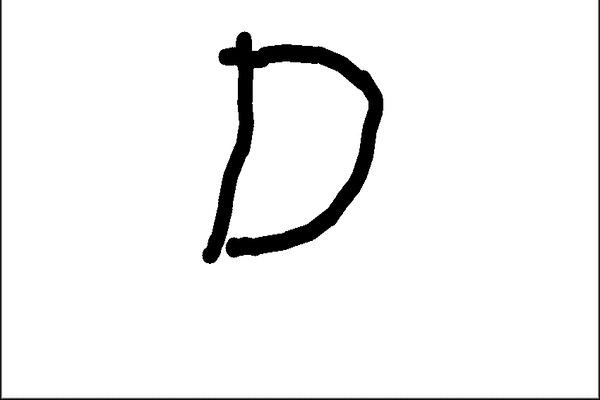D: (196, 26, 388, 266)
